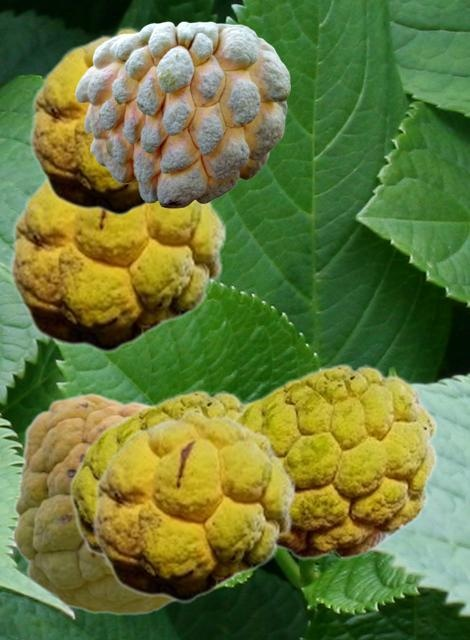atis: (232, 363, 437, 559), (75, 21, 289, 207), (91, 409, 295, 602), (8, 179, 226, 352), (68, 389, 249, 589), (11, 392, 174, 614), (28, 26, 152, 215)
